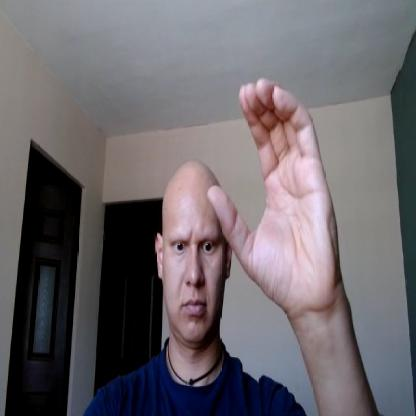C: (207, 76, 340, 310)
